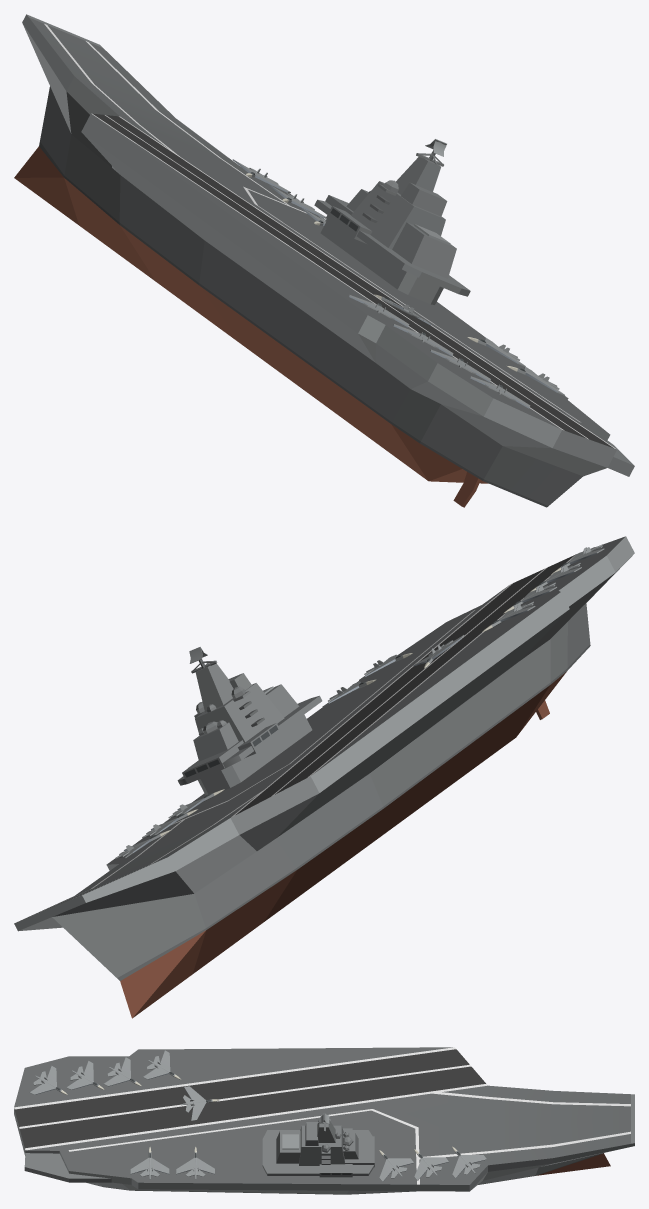
The model's file is Авианосец (тонет).fbx.
3 views of the same model, one above another, from view 1: azimuth 30°, elevation 25°; view 2: azimuth 150°, elevation 25°; view 3: azimuth 270°, elevation 25° (orthographic). The views are drawn at different scales.
Visible parts, largest first — view 1: Авианосец_тонет; view 2: Авианосец_тонет; view 3: Авианосец_тонет.
Boxes of the visible parts, x1,y1,x2,y2 form: Авианосец_тонет: [14, 14, 634, 507]; Авианосец_тонет: [14, 536, 634, 1018]; Авианосец_тонет: [14, 1047, 634, 1194].
Bounding box in the file's own units: 1.94 × 1.38 × 7.11.
